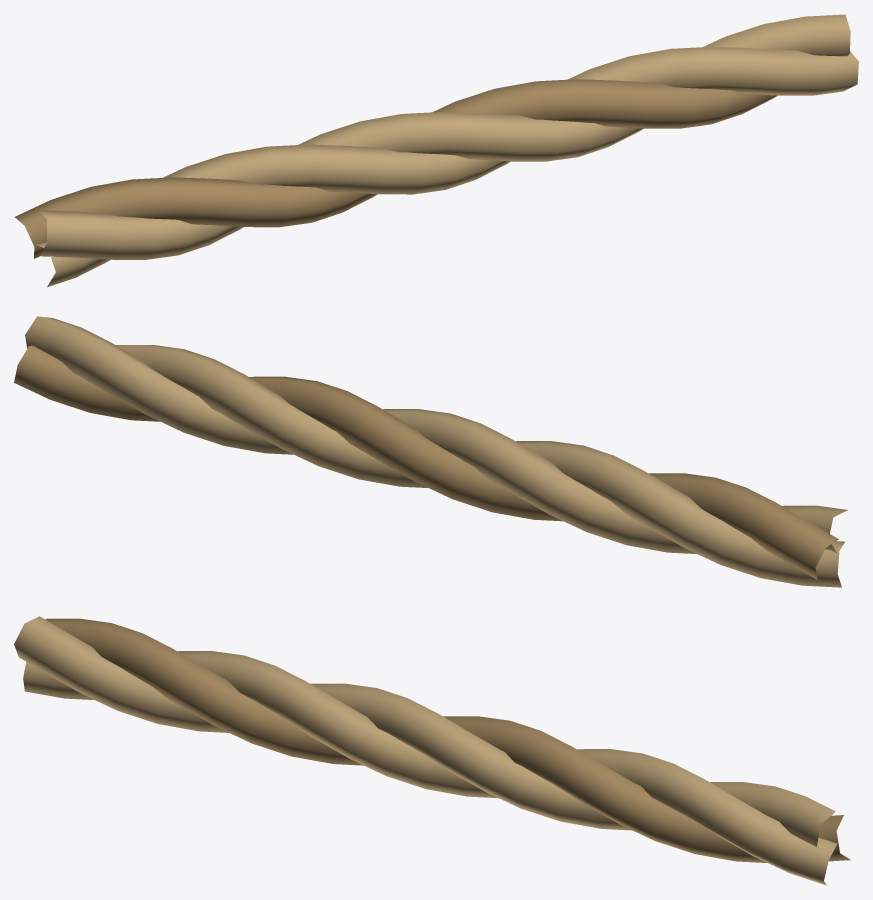
Rendered from bar.glb.
The picture shows the model from 3 angles, top to bottom: view 1: azimuth 30°, elevation 25°; view 2: azimuth 150°, elevation 25°; view 3: azimuth 330°, elevation 25°; orthographic projection.
Visible parts, largest first — view 1: bar; view 2: bar; view 3: bar.
Boxes of the visible parts, x1,y1,x2,y2 form: bar: [15, 14, 858, 287]; bar: [14, 316, 847, 587]; bar: [14, 616, 850, 885].
Size of the model in its own units: 1.01 by 0.0933 by 0.0939.
